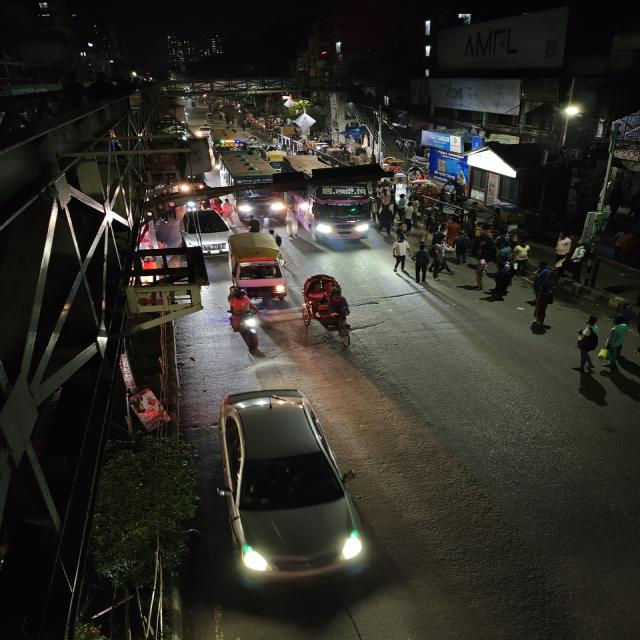bus: (299, 168, 382, 248), (218, 167, 286, 217)
car: (205, 381, 380, 601), (178, 209, 238, 253)
human_hauler: (224, 231, 292, 305), (263, 148, 291, 172)
motorcycle: (219, 285, 265, 351)
pedestrian: (525, 286, 564, 326), (570, 326, 602, 374), (601, 322, 630, 370), (488, 264, 519, 300), (468, 252, 491, 290), (409, 245, 432, 281), (388, 237, 411, 273), (428, 242, 451, 278), (450, 232, 472, 266), (376, 204, 397, 237), (511, 242, 532, 274), (531, 261, 551, 291), (555, 234, 574, 262), (570, 241, 588, 268), (582, 313, 601, 335), (435, 222, 452, 245)
rickshaw: (299, 270, 368, 348), (406, 166, 428, 184)
